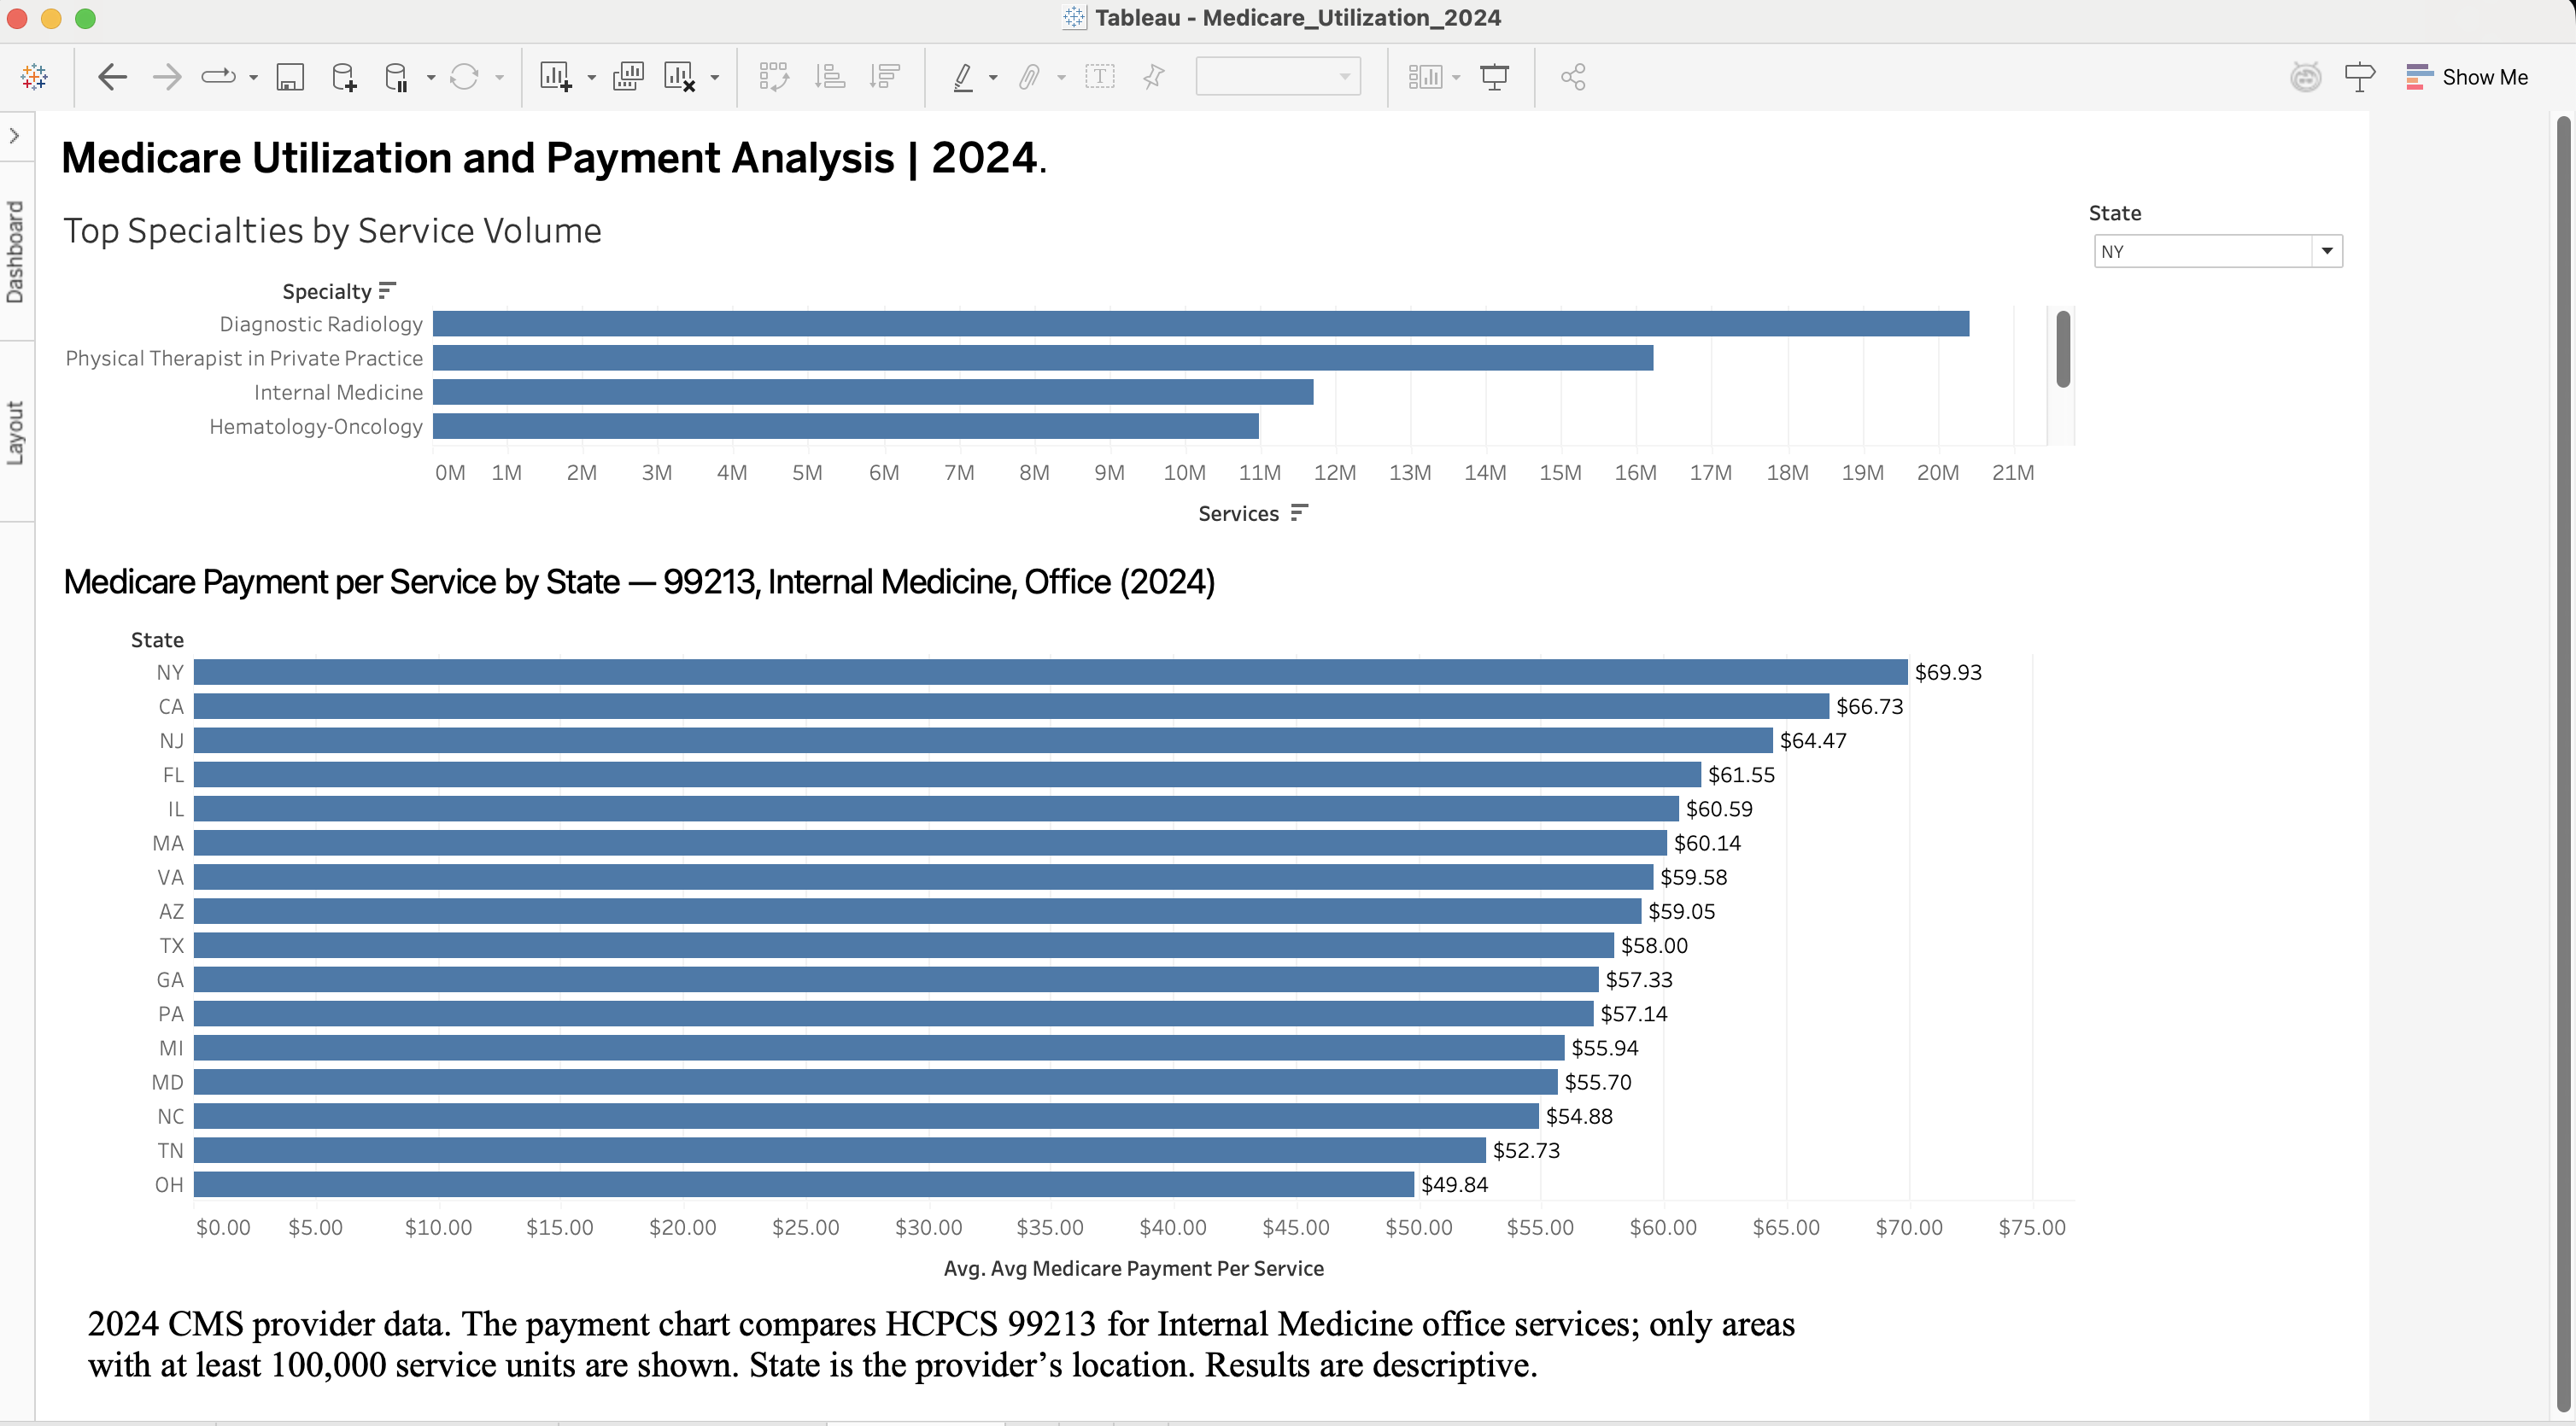

What the dashboard file says about the page in this screenshot:
{"tool":"tableau","page":{"name":"Dashboard 1","canvas":[1366,768],"ordinal":0},"visuals":[{"type":"title","box":[8,8,1350,39]},{"type":"worksheet","title":"Top Specialties by Service Volume","mark":"Automatic","rows":["specialty"],"cols":["services"],"box":[8,47,1190,208]},{"type":"filter","title":"Top Specialties by Service Volume","param":"[federated.0alucbl0woufaw1ael25d0sdr6rw].[none:state:nk]","box":[1198,47,160,52]},{"type":"worksheet","title":"99213 Payment by State","mark":"Automatic","rows":["state"],"cols":["avg_medicare_payment_per_service"],"box":[8,255,1190,505]},{"type":"text","box":[28,689,1042,68]}]}

Visuals, with their boxes on the page's 1366x768 design canvas (x1, y1, x2, y2). These are canvas units, not pixel positions in the 2576x1426 screenshot, which may show the page scaled, cropped or inside an application window:
title: [8,8,1358,47]
"Top Specialties by Service Volume" worksheet: [8,47,1198,255]
"Top Specialties by Service Volume" filter: [1198,47,1358,99]
"99213 Payment by State" worksheet: [8,255,1198,760]
text: [28,689,1070,757]
